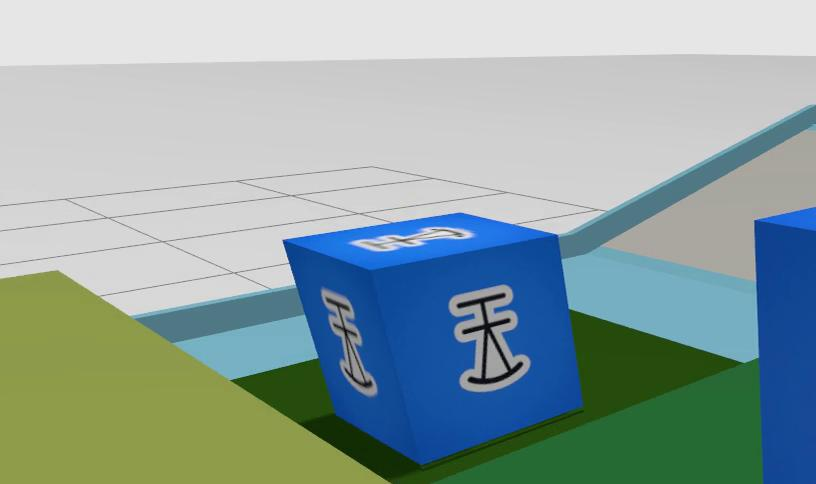KFS_REAL: (286, 213, 581, 462), (755, 206, 816, 484), (449, 286, 530, 391), (322, 289, 377, 395), (350, 226, 474, 251), (0, 200, 101, 229)
